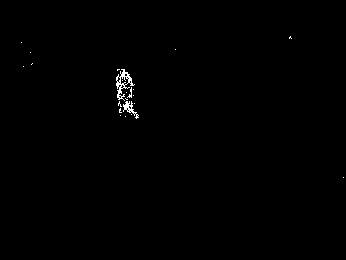person: (115, 66, 140, 121)
